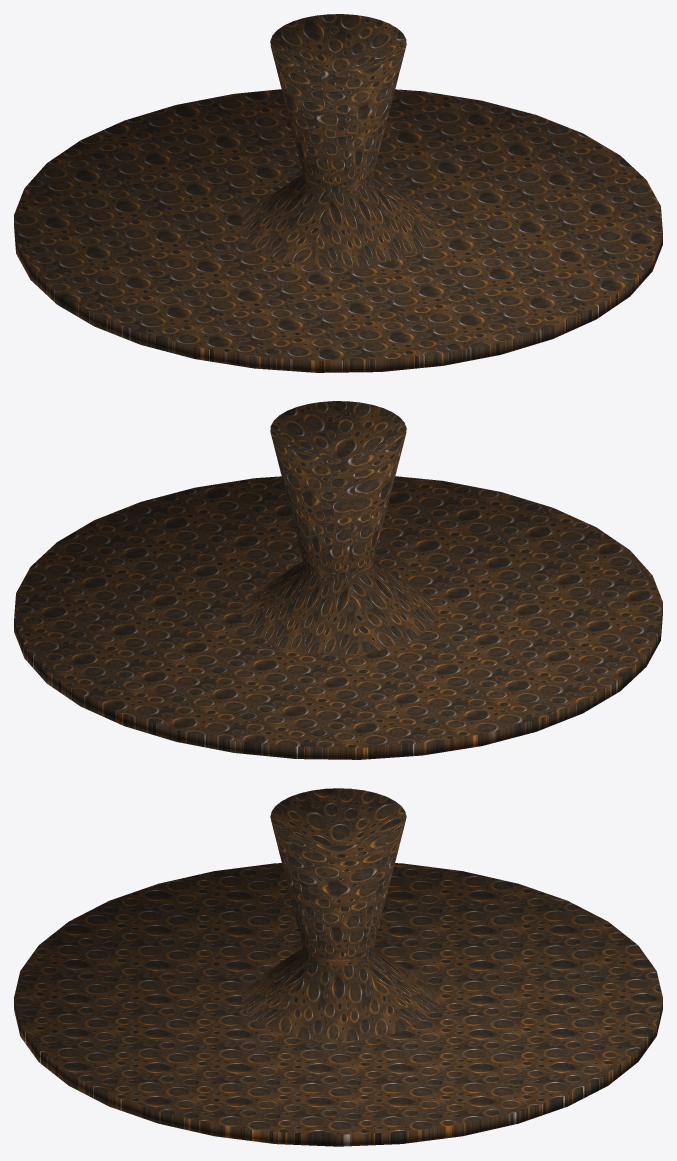
The model's file is thron.obj.
3 views of the same model, one above another, from view 1: azimuth 30°, elevation 25°; view 2: azimuth 150°, elevation 25°; view 3: azimuth 270°, elevation 25° (orthographic).
Visible parts, largest first — view 1: Circle_Circle.001_Material_metal082.jpg; view 2: Circle_Circle.001_Material_metal082.jpg; view 3: Circle_Circle.001_Material_metal082.jpg.
Part boxes in pixels (bbox=[...]): Circle_Circle.001_Material_metal082.jpg: bbox=[14, 14, 662, 372]; Circle_Circle.001_Material_metal082.jpg: bbox=[14, 401, 662, 759]; Circle_Circle.001_Material_metal082.jpg: bbox=[14, 788, 662, 1146].
Bounding box in the file's own units: 48 × 15.71 × 48.
1 material, 1 textured.
